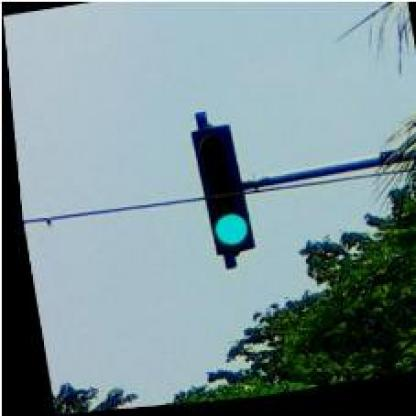green: (187, 130, 249, 260)
